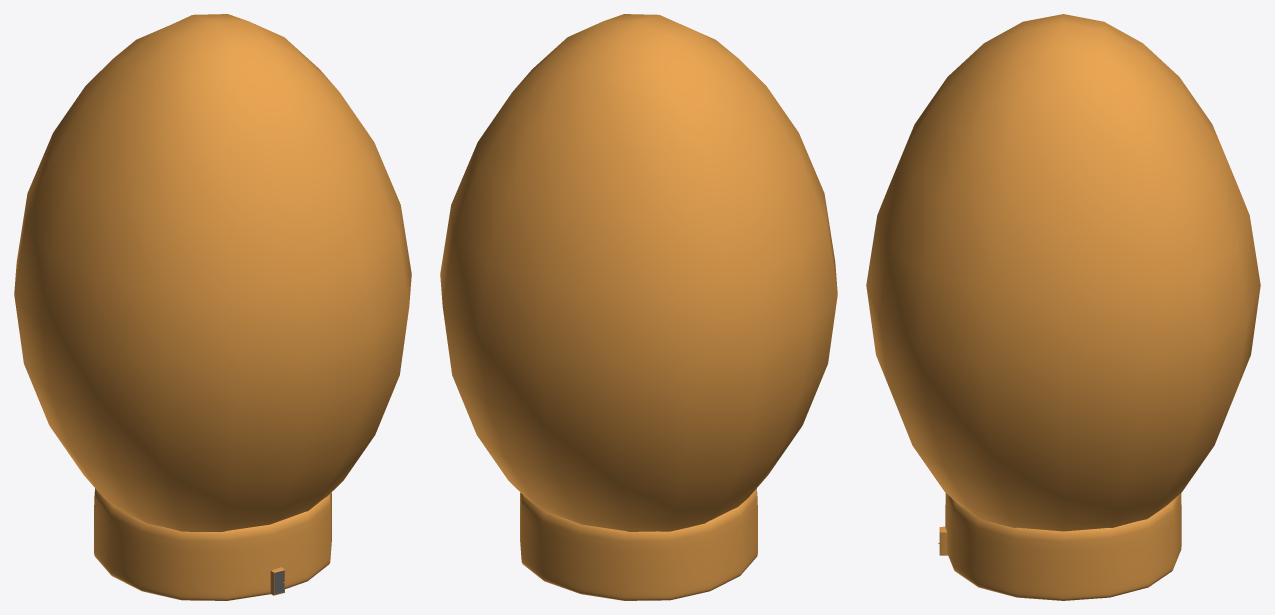
File: GoldenEgg.fbx
The picture shows the model from 3 angles, left to right: view 1: azimuth 30°, elevation 25°; view 2: azimuth 150°, elevation 25°; view 3: azimuth 270°, elevation 25°; orthographic projection.
Visible parts, largest first — view 1: Golden Egg; view 2: Golden Egg; view 3: Golden Egg.
Boxes of the visible parts, x1,y1,x2,y2 form: Golden Egg: (14,14,411,600); Golden Egg: (440,14,837,600); Golden Egg: (866,14,1260,600).
Bounding box in the file's own units: 4922 × 7346 × 4922.
